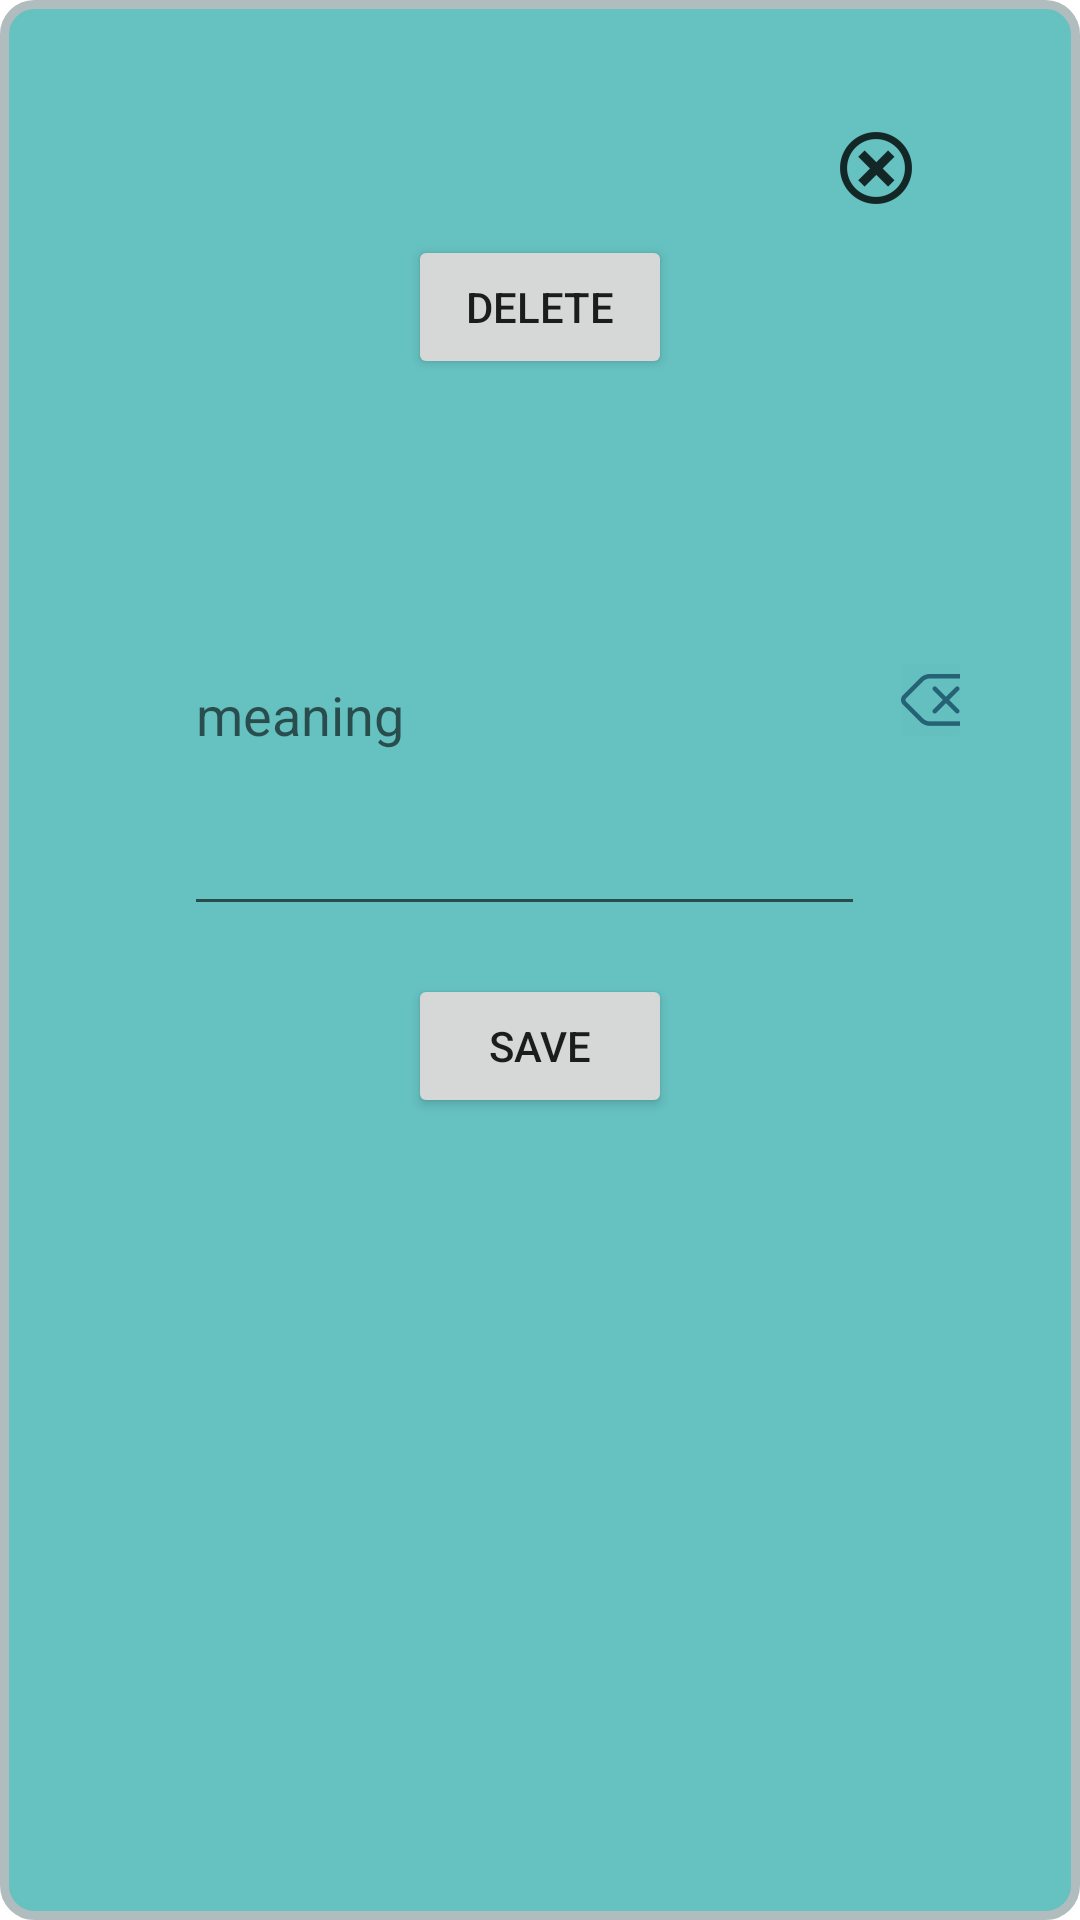

Icons on this 1080w x 1920h Android screen, each with the point to tap as point (x, y):
close: point (876, 168)
delete text word: point (930, 700)
